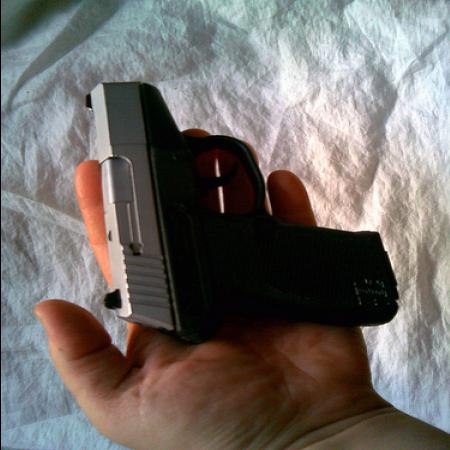Pistol: (79, 82, 403, 351)
